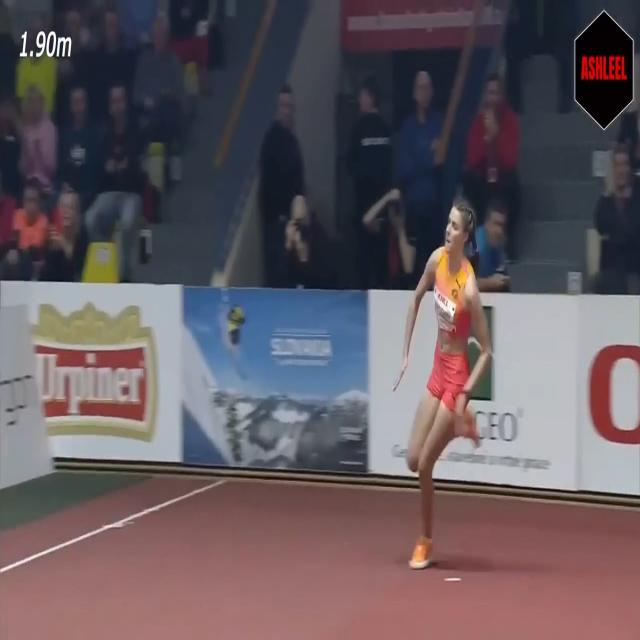run: (393, 195, 494, 569)
